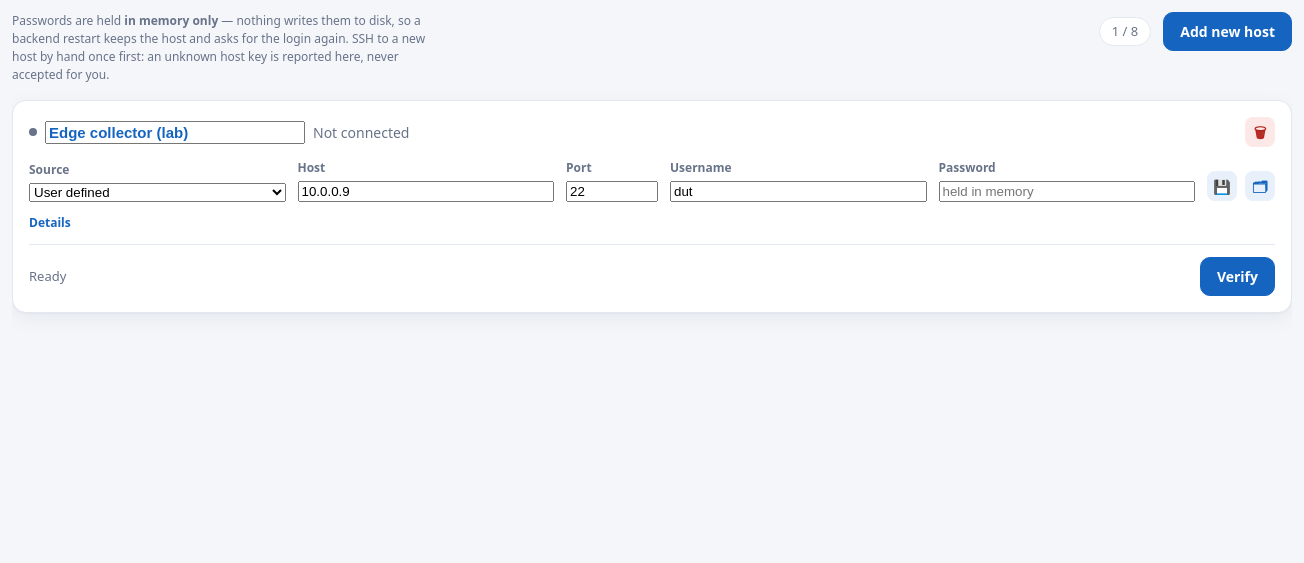
Test: the host key, where the operator already is › does not read an unreachable box as a changed key
Click the button "Details" at (50, 223), box [29,214,71,232]
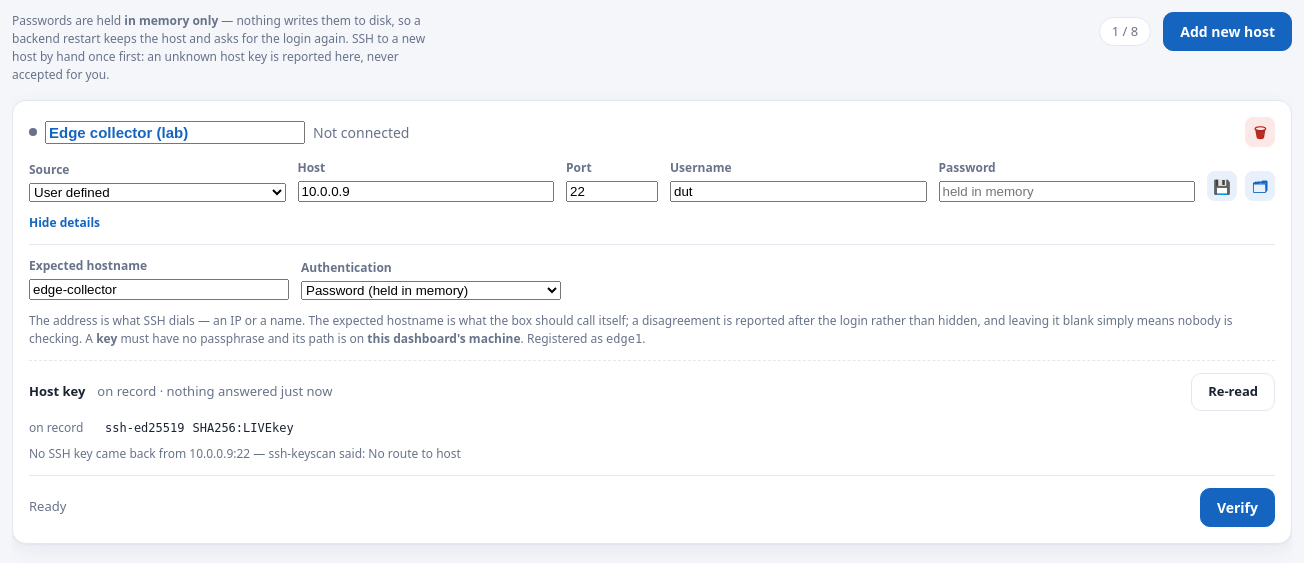
Result: the text "Host key" is shown at [29,382,85,402]
Result: the text "on record · nothing answered just now" is shown at [97,382,332,402]
Result: the text "No route to host" is shown at [29,444,461,462]
